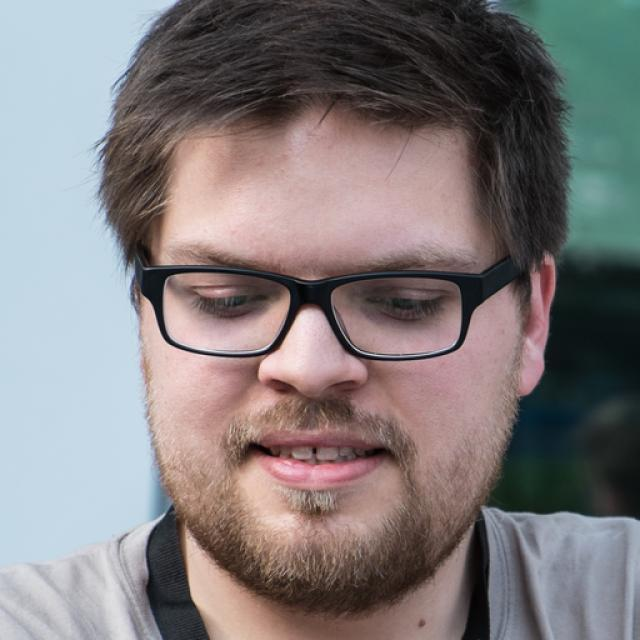content: (142, 124, 518, 602)
